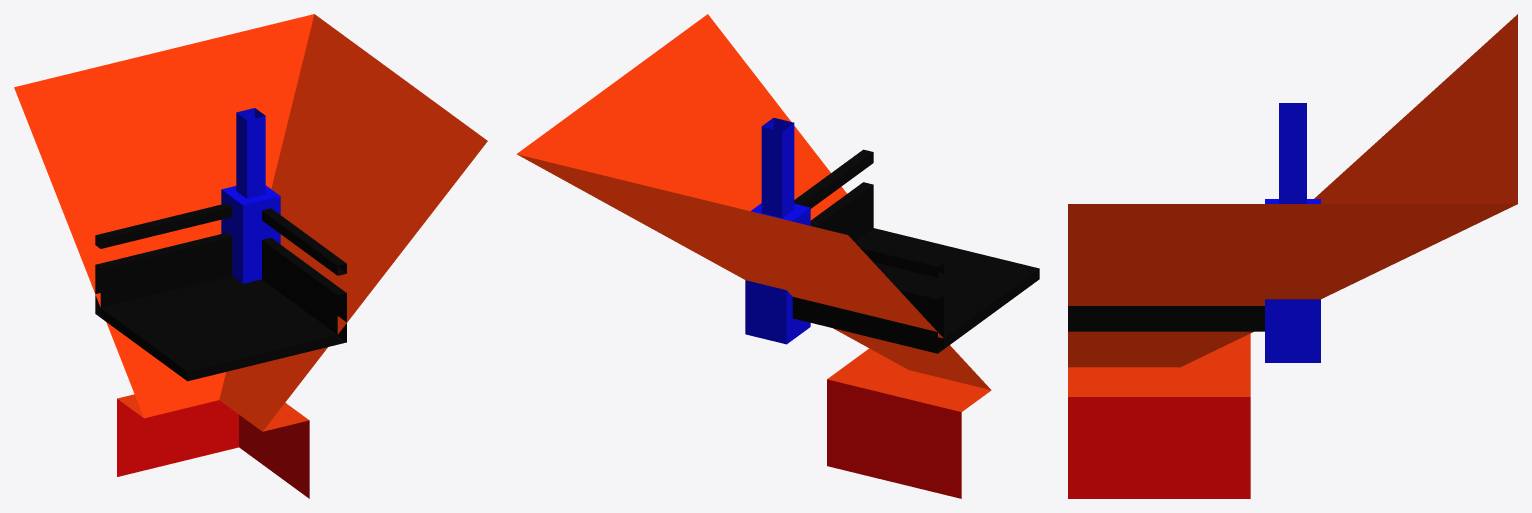
The model's file is None_S_S_E_E_S_P_E_E_BigStrut.fbx.
The picture shows the model from 3 angles, left to right: view 1: azimuth 30°, elevation 25°; view 2: azimuth 150°, elevation 25°; view 3: azimuth 270°, elevation 25°; orthographic projection. The views are drawn at different scales.
Visible parts, largest first — view 1: None_S_S_E_E_S_P_E_E_BigStrut; view 2: None_S_S_E_E_S_P_E_E_BigStrut; view 3: None_S_S_E_E_S_P_E_E_BigStrut.
Boxes of the visible parts, x1,y1,x2,y2 form: None_S_S_E_E_S_P_E_E_BigStrut: [14, 14, 487, 498]; None_S_S_E_E_S_P_E_E_BigStrut: [516, 14, 1039, 498]; None_S_S_E_E_S_P_E_E_BigStrut: [1068, 14, 1517, 498].
Bounding box in the file's own units: 100 × 100 × 100.
